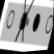correct: (30, 10, 43, 35)
not correct: (14, 0, 36, 46)
